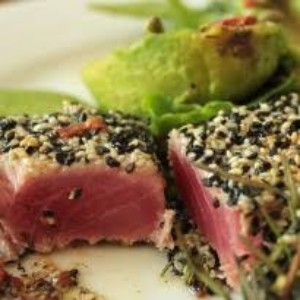tofu_brain food: (190, 123, 285, 258)
tuna_brain food: (12, 130, 156, 241)
